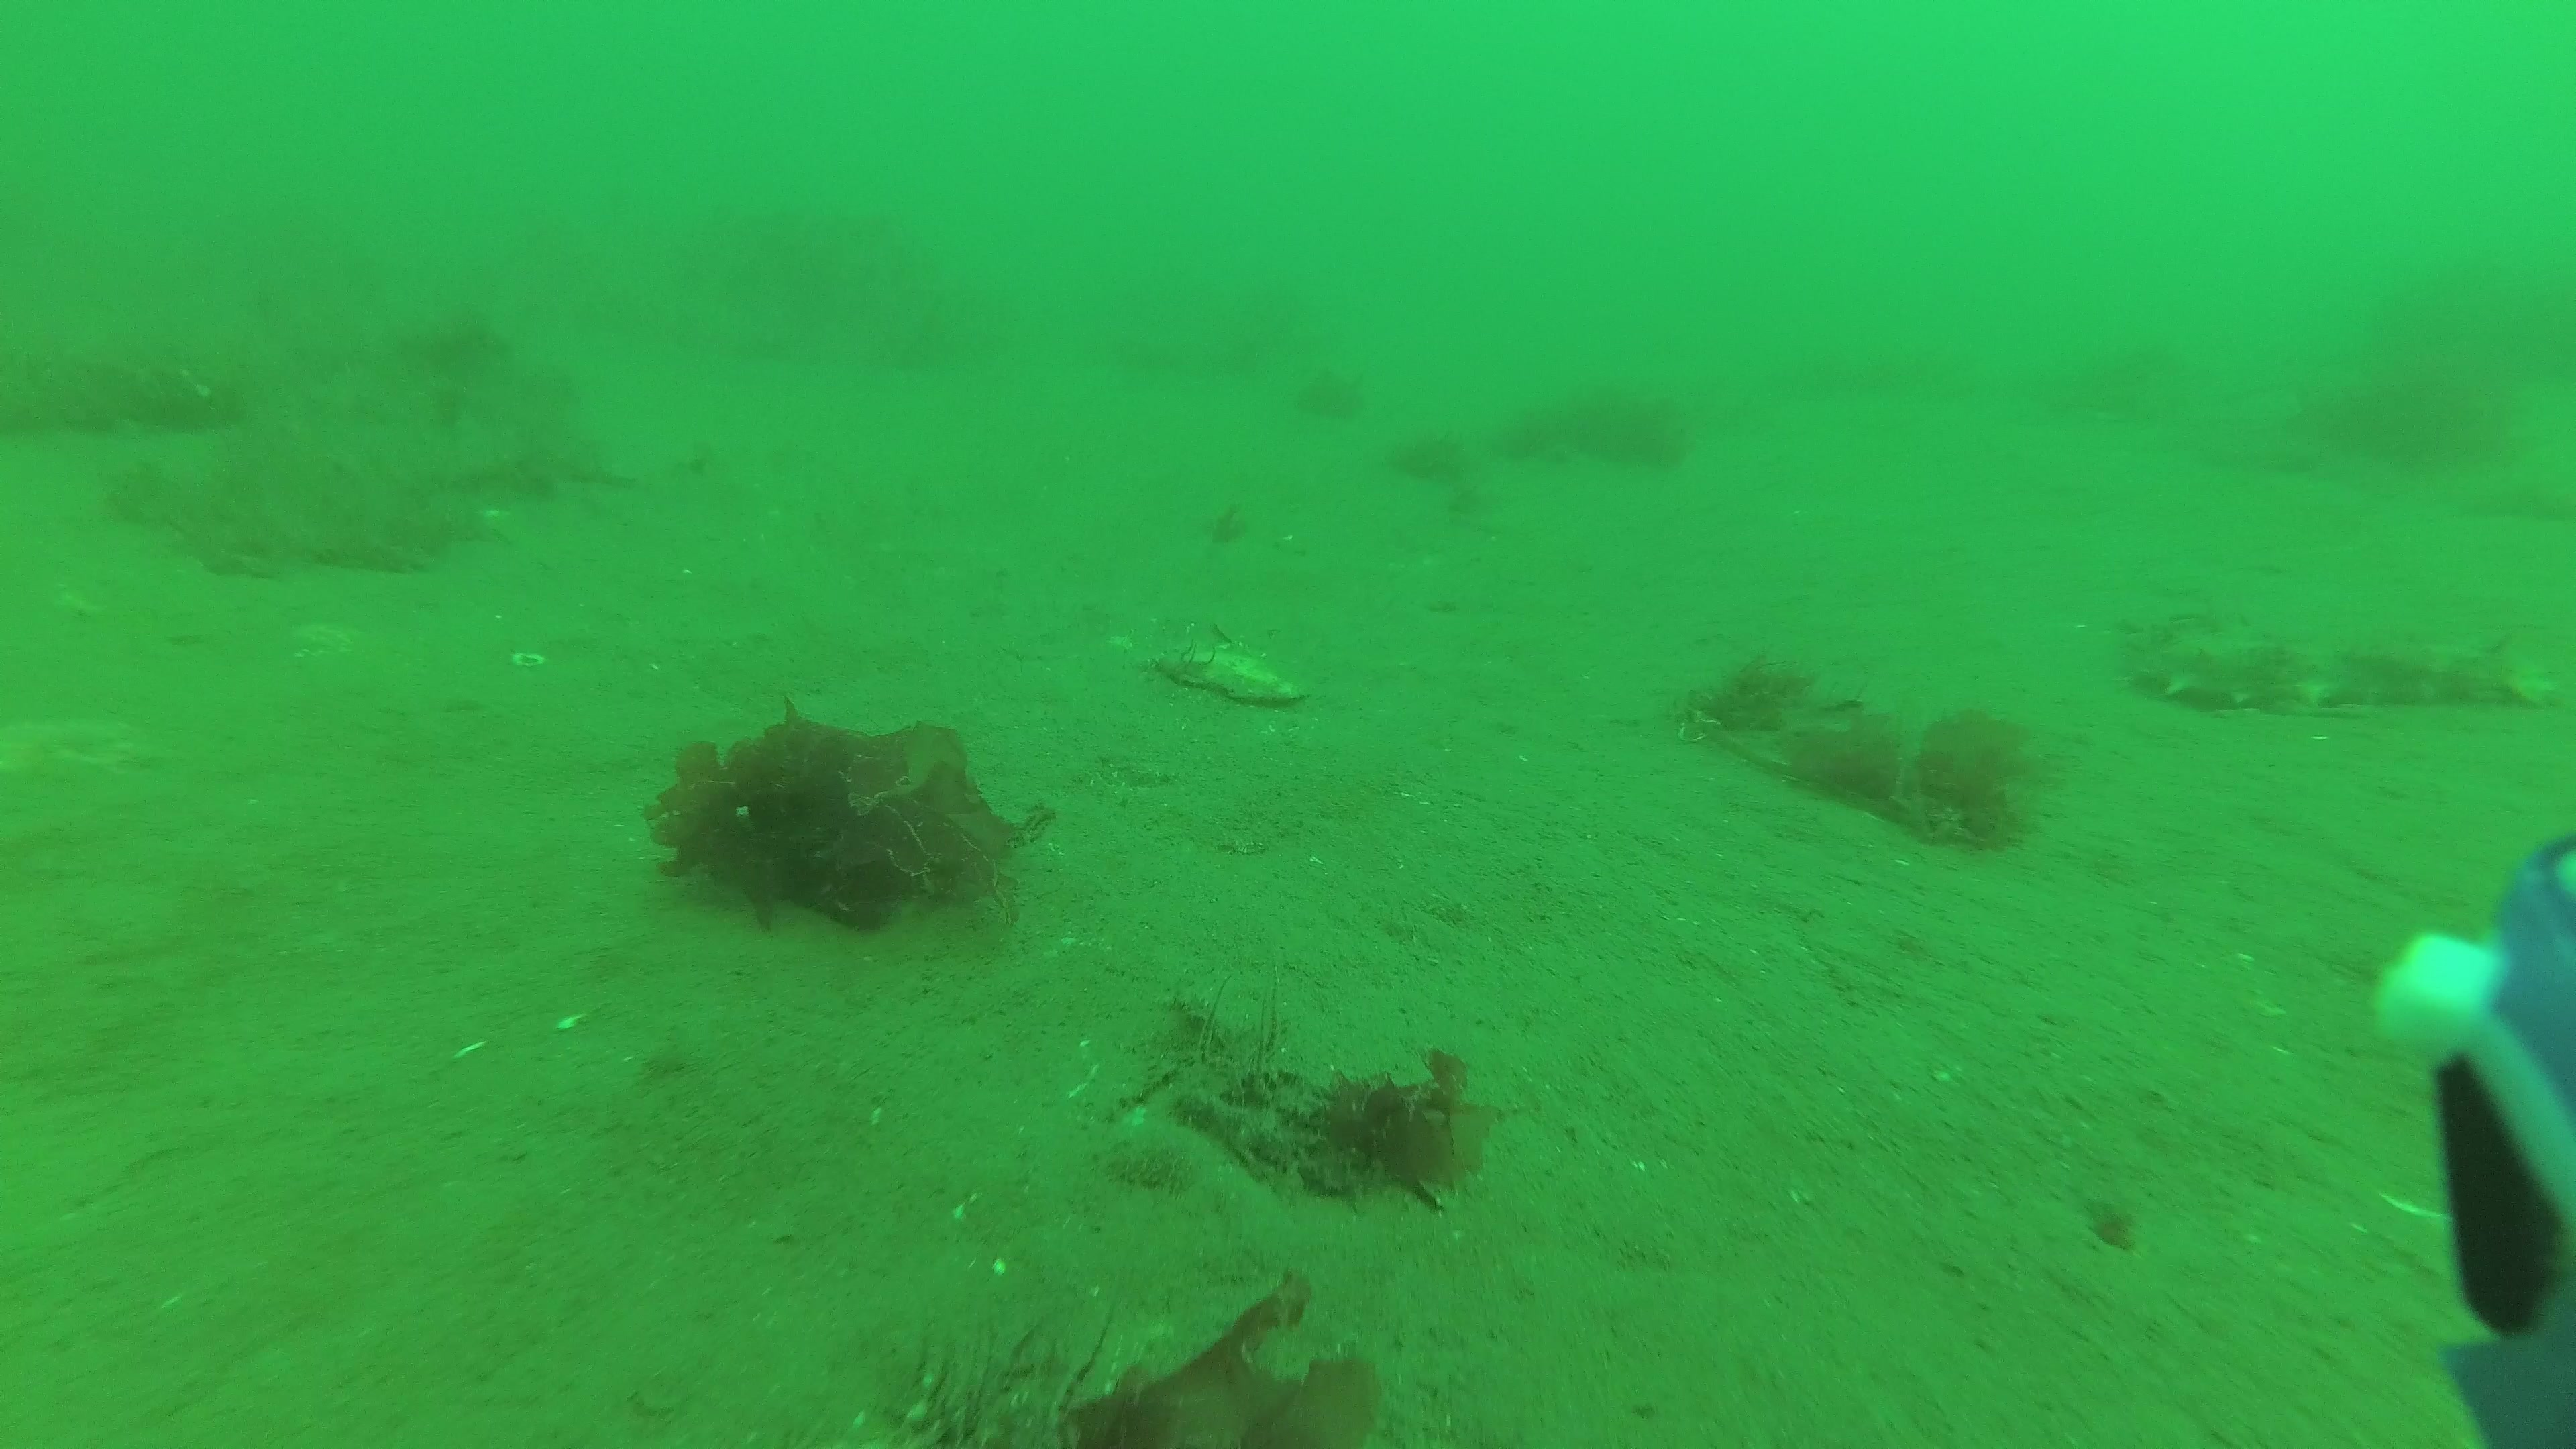holothurian: (2111, 605, 2562, 724)
